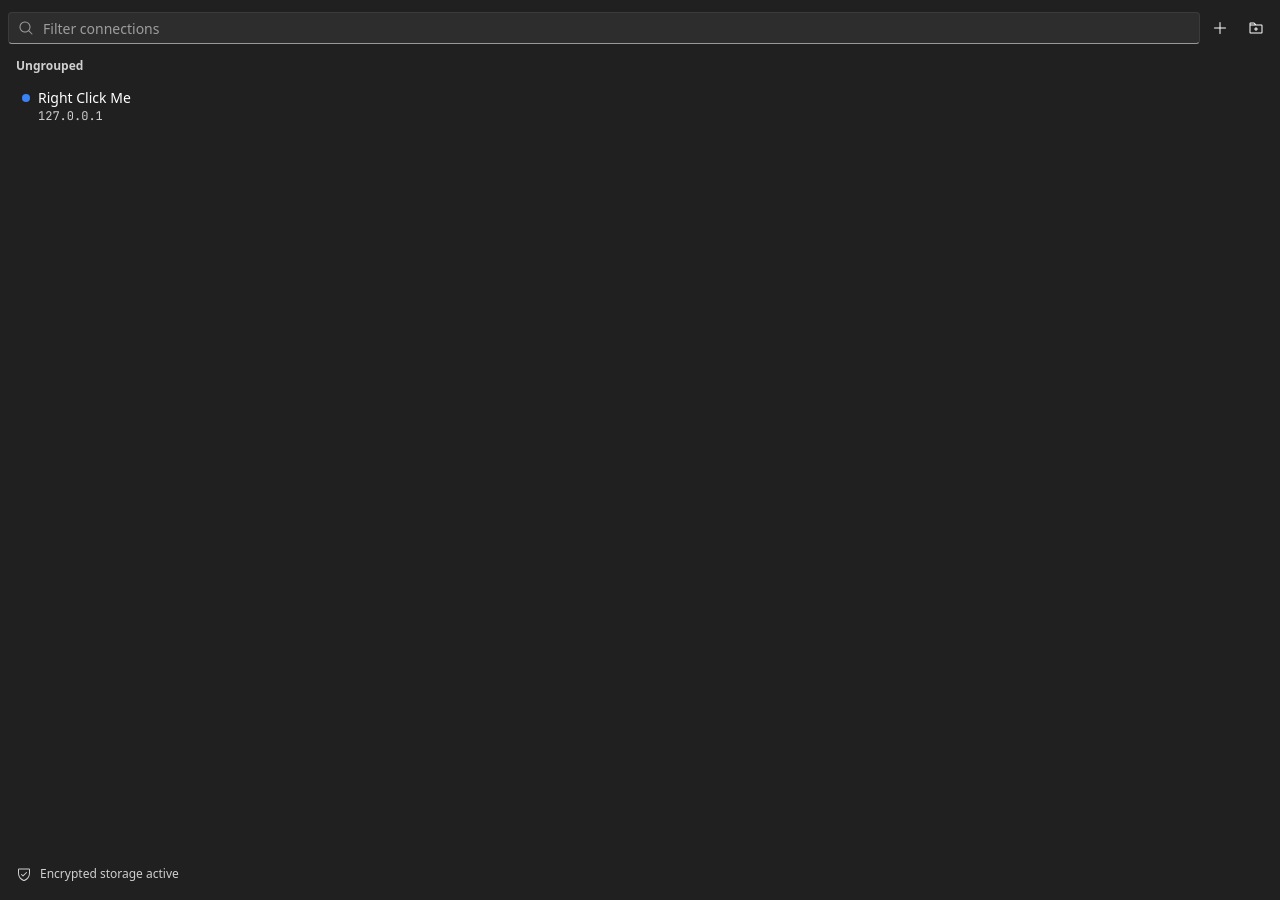
Test: SavedConnectionsList › connection interactions › right-clicking a saved connection opens a context menu with Duplicate
Right-click the text "Right Click Me": [84, 98] box [38,88,131,108]
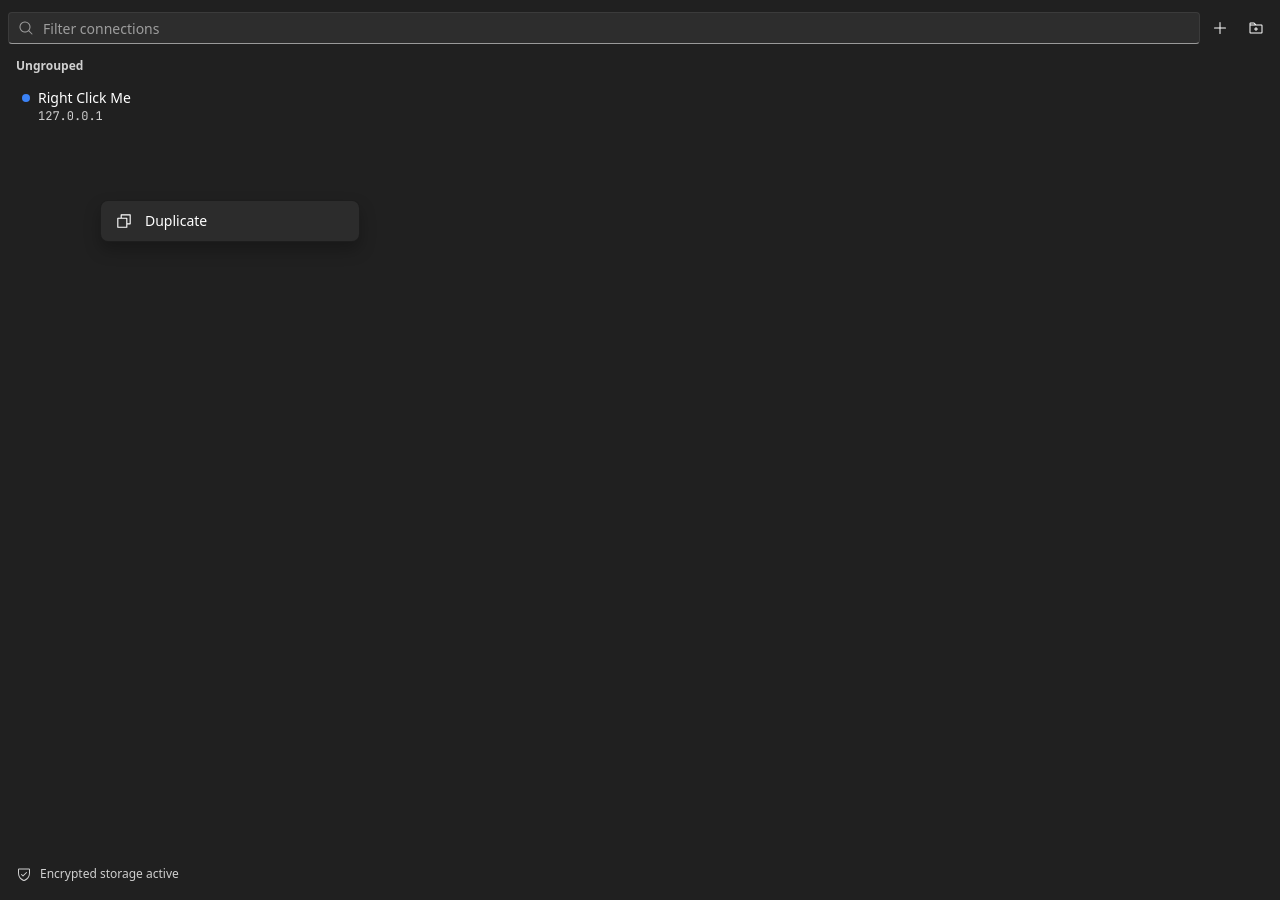
Click the menu item "Duplicate": [230, 221] box [105,205,355,237]
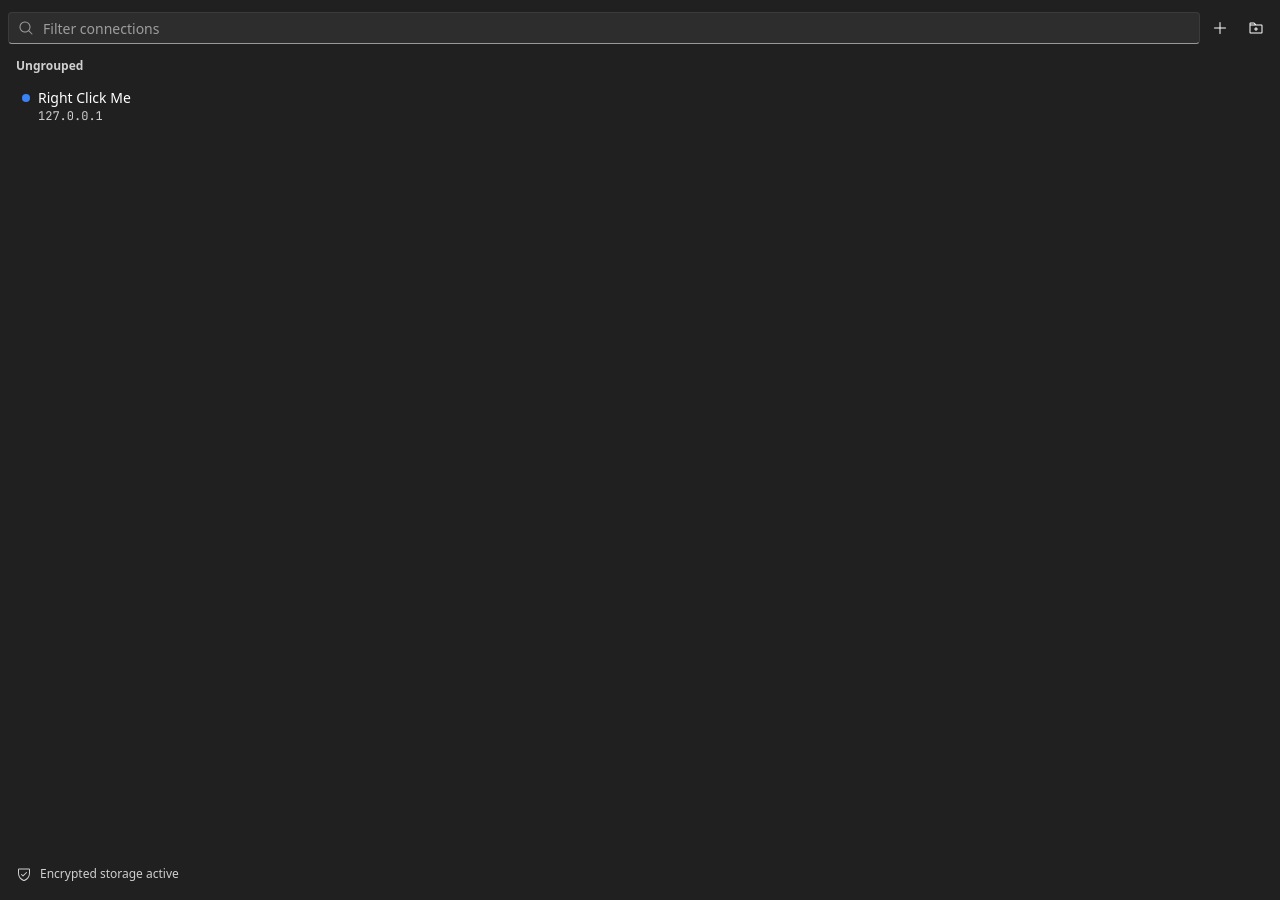
expect the menu with test id "saved-connections-context-menu" is gone: met
